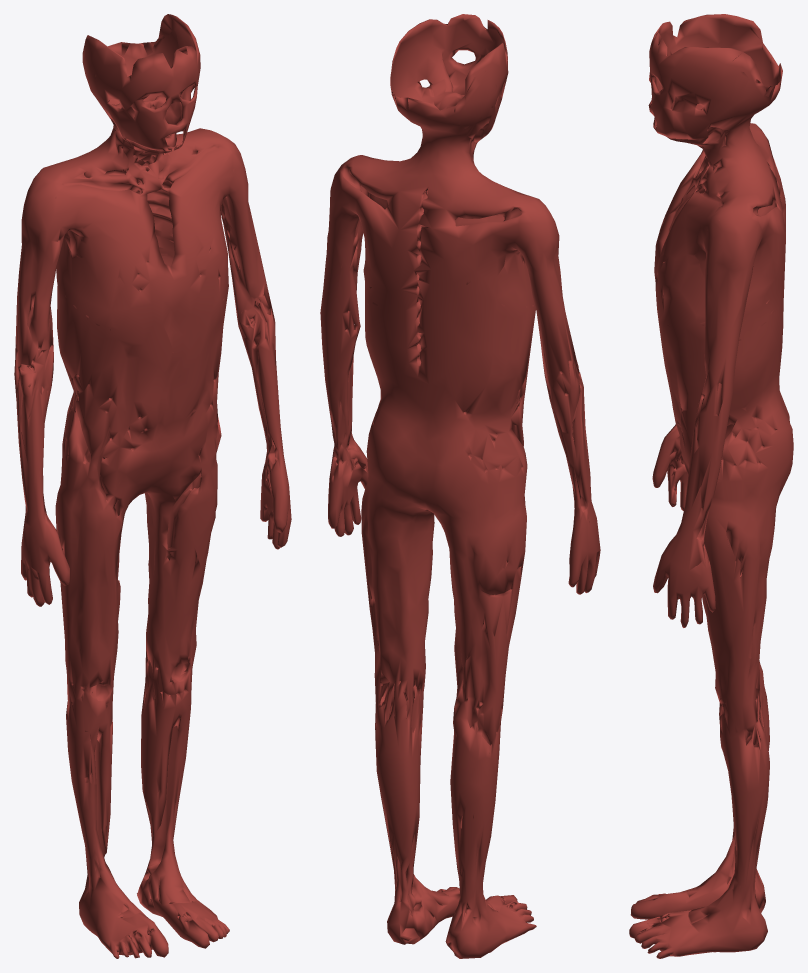
Rendered from pediatric_child_10y_male.muscular.LOD2.glb.
3 views of the same model, side by side, from view 1: azimuth 30°, elevation 25°; view 2: azimuth 150°, elevation 25°; view 3: azimuth 270°, elevation 25° (orthographic).
Visible parts, largest first — view 1: PEDIATRIC.CHILD_10Y.MALE.MUSCULAR.MUSCLE; view 2: PEDIATRIC.CHILD_10Y.MALE.MUSCULAR.MUSCLE; view 3: PEDIATRIC.CHILD_10Y.MALE.MUSCULAR.MUSCLE.
Part boxes in pixels (box(x1,y1,x2,y2)): PEDIATRIC.CHILD_10Y.MALE.MUSCULAR.MUSCLE: box(14, 14, 291, 958); PEDIATRIC.CHILD_10Y.MALE.MUSCULAR.MUSCLE: box(320, 14, 600, 958); PEDIATRIC.CHILD_10Y.MALE.MUSCULAR.MUSCLE: box(629, 14, 793, 958).
Bounding box in the file's own units: 0.4051 × 1.35 × 0.2229.
